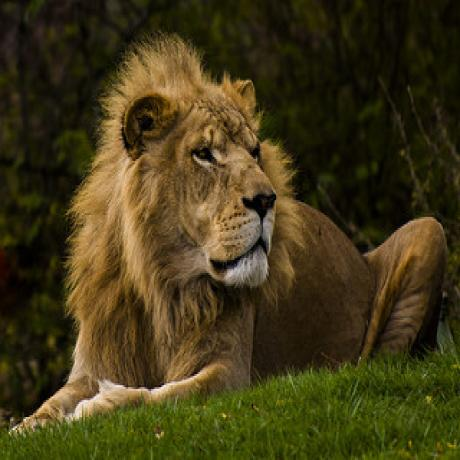Lion: (26, 31, 448, 412)
